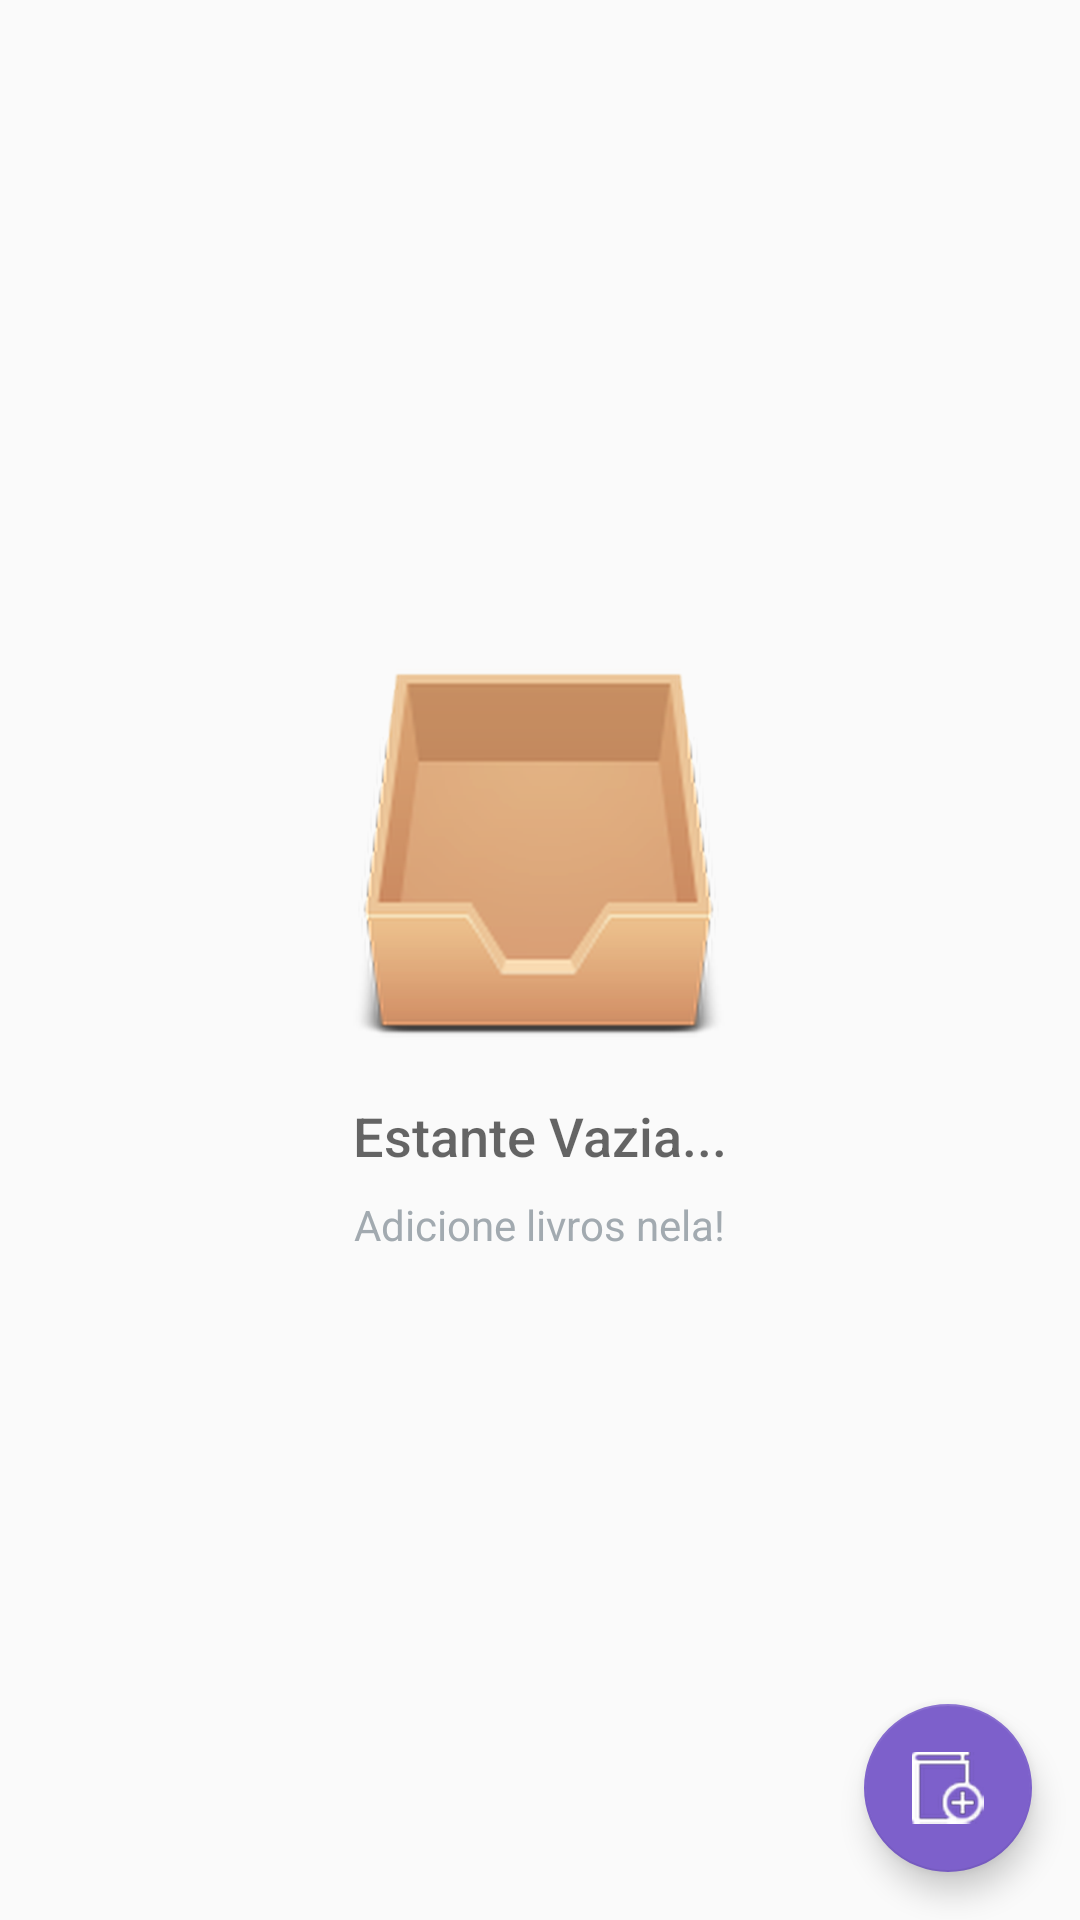

Icon bounding boxes for this 1080*1920 phone screenshot, format (x1, y1, x2, y2):
add livro: (864, 1704, 1032, 1872)
